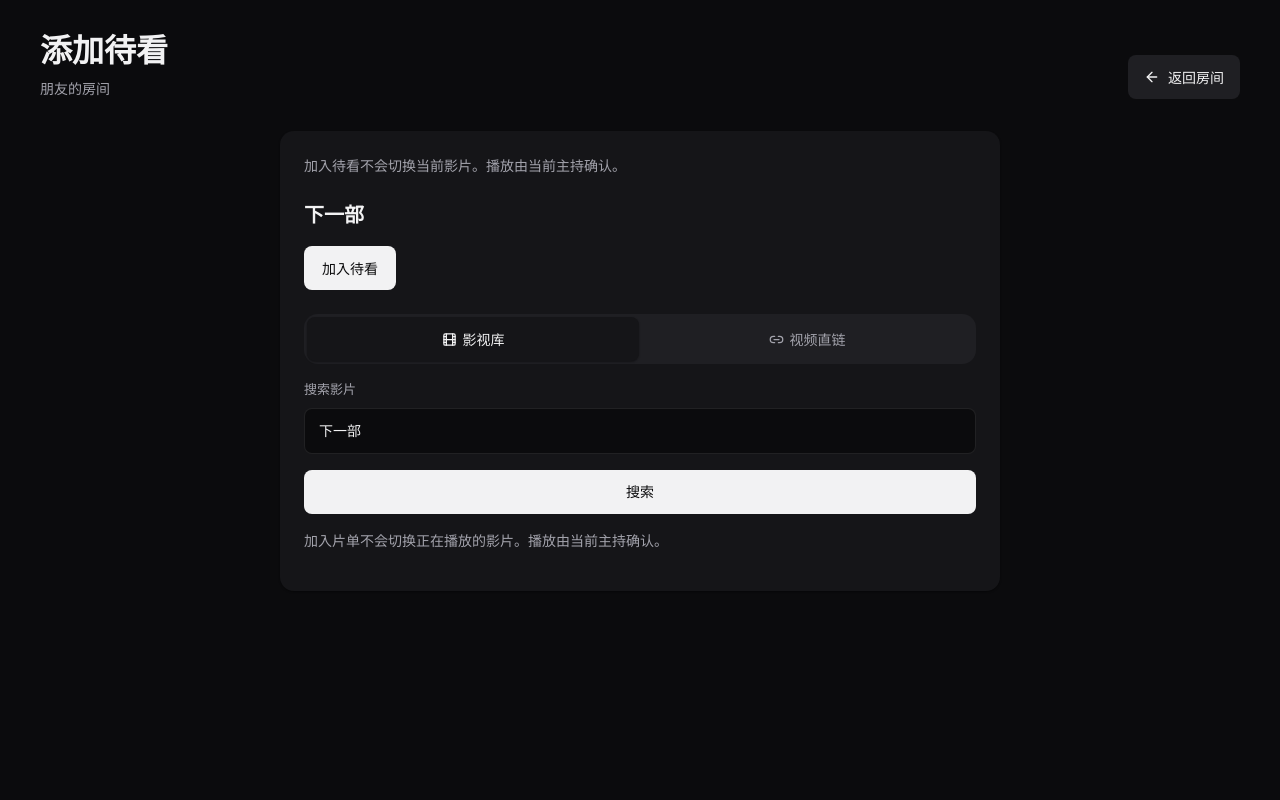
Test: the selection page waits for confirmation and offers a return to the same room
The image size is (1280, 800).
Expected: the heading "添加待看" is shown, [40,32,168,70]
What coordinates should you click on to do the following:
click the button with aria-label "将下一部加入待看"
I would click on:
 (350, 268)
Its box is [304,246,396,290].
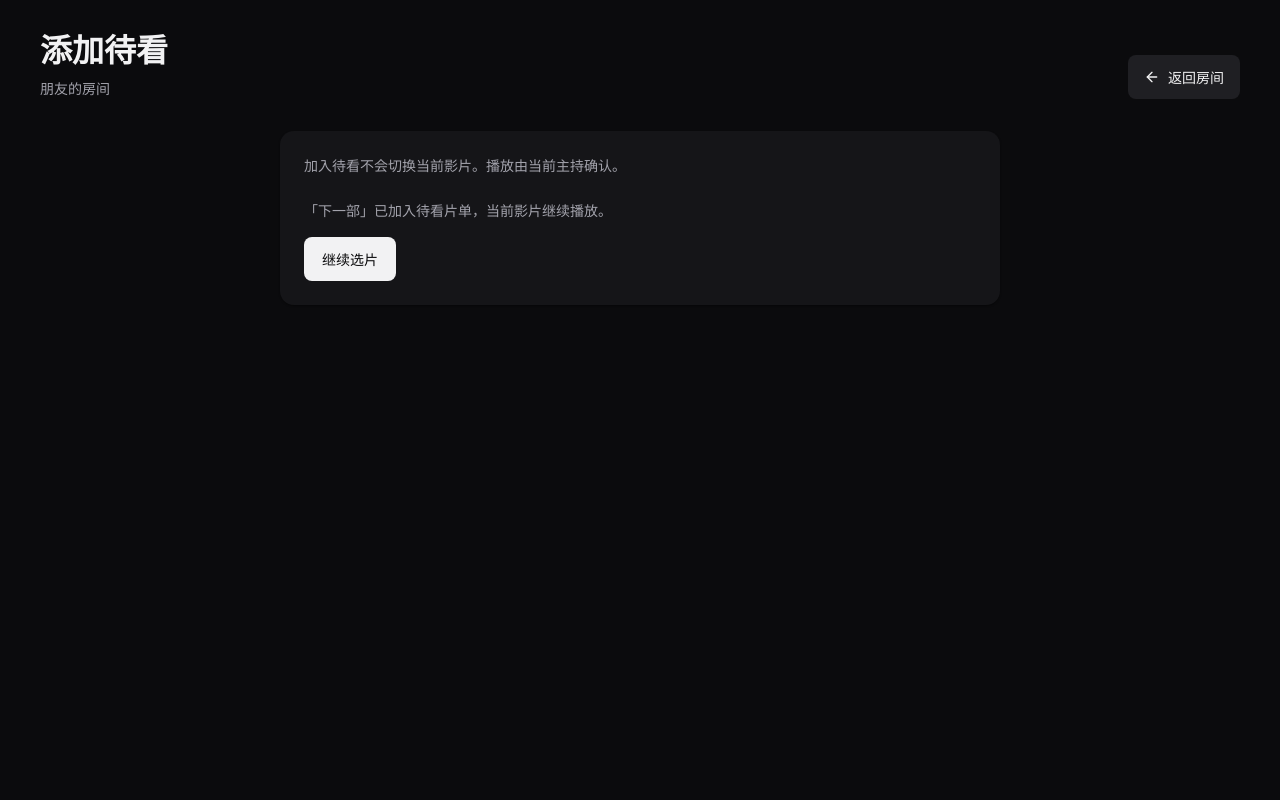
Expected: the message shows "已加入待看片单", [360,202,612,219]
Expected: the button "继续选片" is shown, [304,237,396,281]
